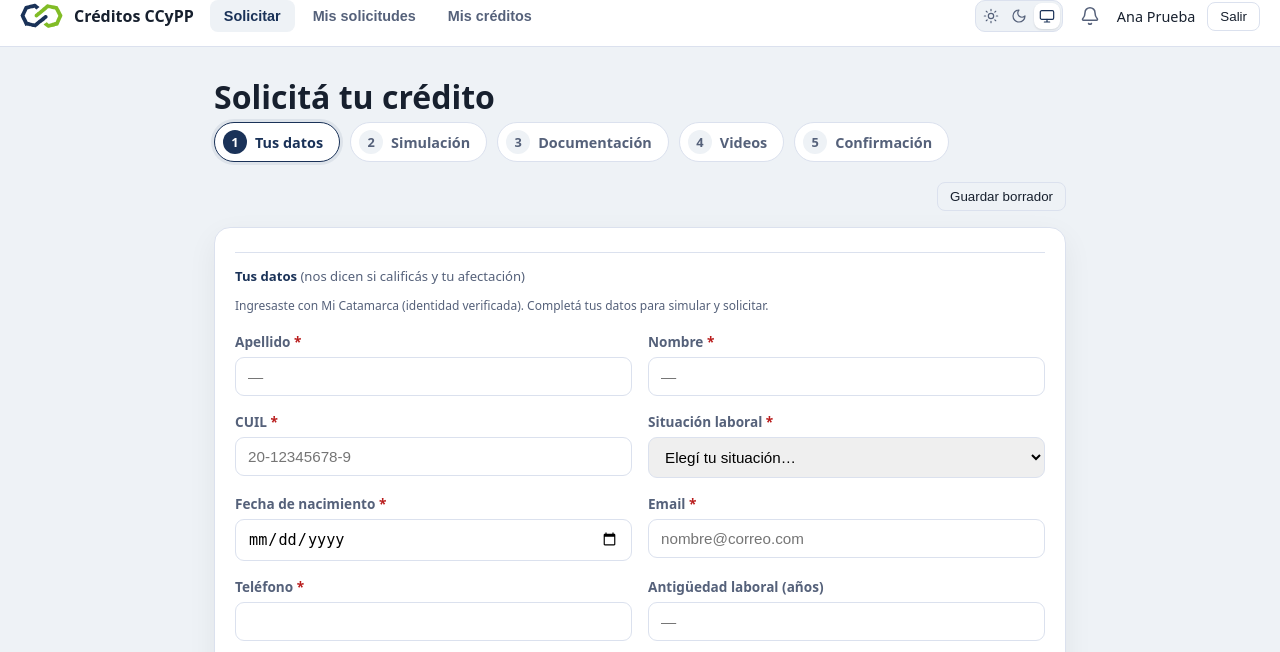
Scenario: paso 1 · tus datos › valida el largo del CUIL
Check: the heading "Solicitá tu crédito" is shown, box [214, 75, 495, 118]
Type "Prueba" into the field labelled "Apellido *" at (434, 376), box [235, 357, 632, 396]
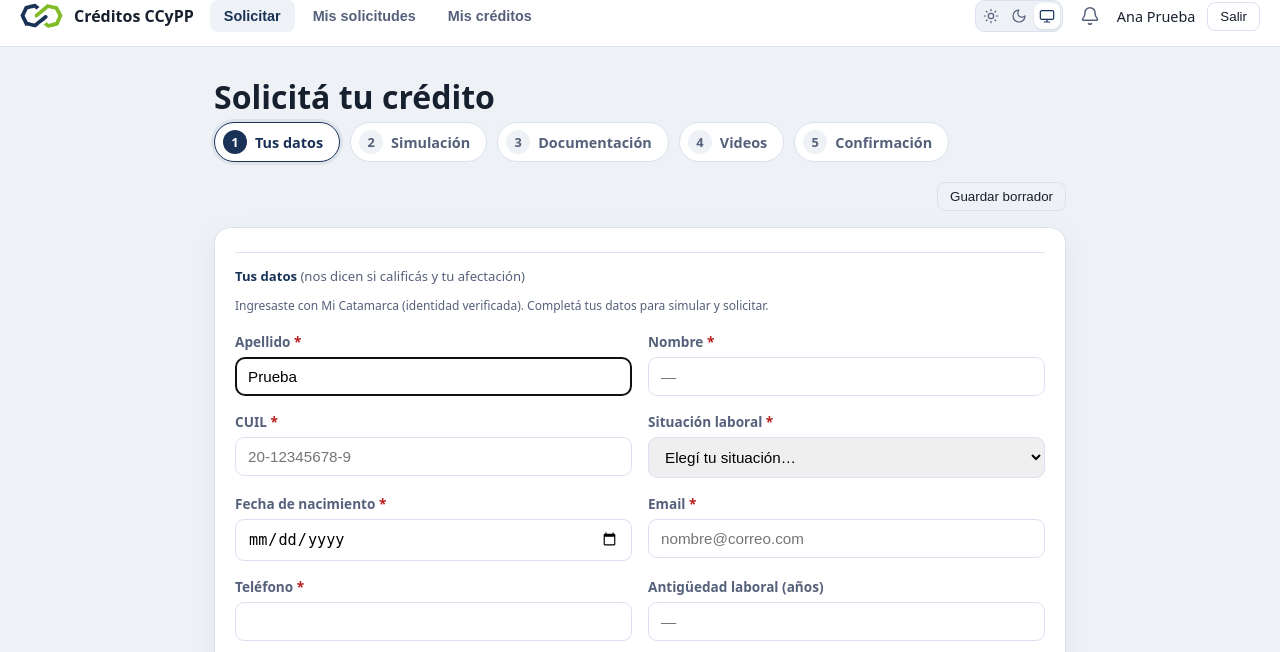
Type "Ana" into the field labelled "Nombre *" at (846, 376), box [648, 357, 1045, 396]
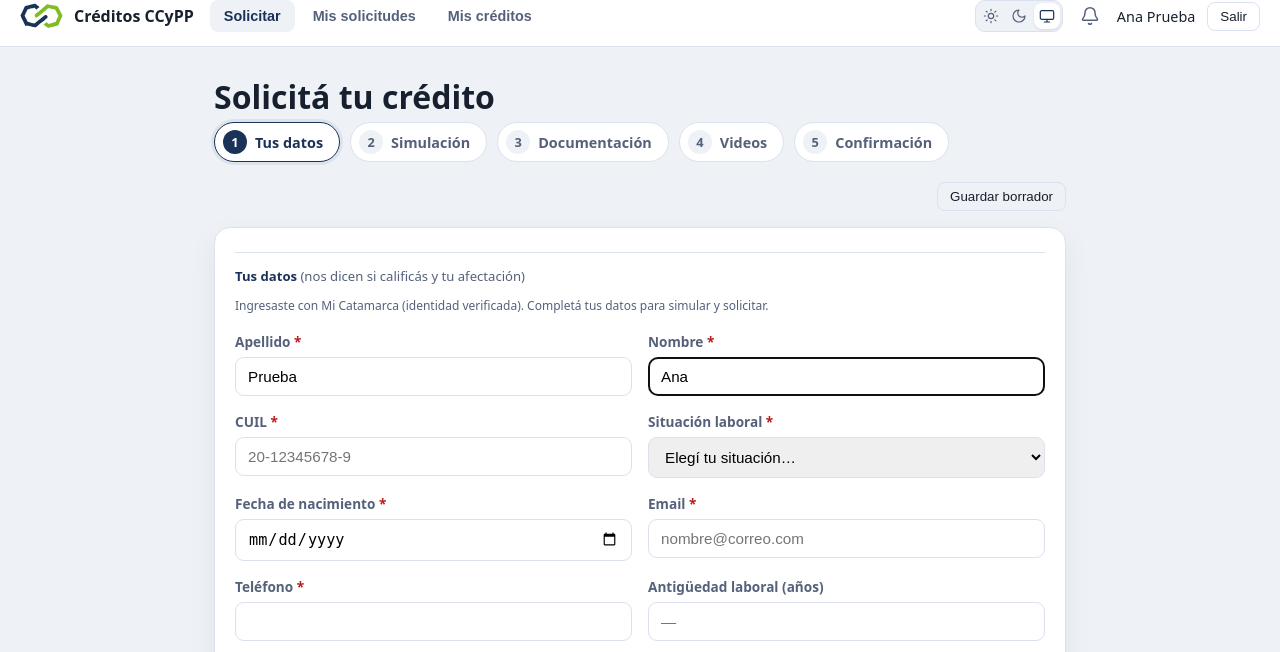
Type "123" into the field labelled "CUIL *" at (434, 456), box [235, 437, 632, 476]
(page scrolled)
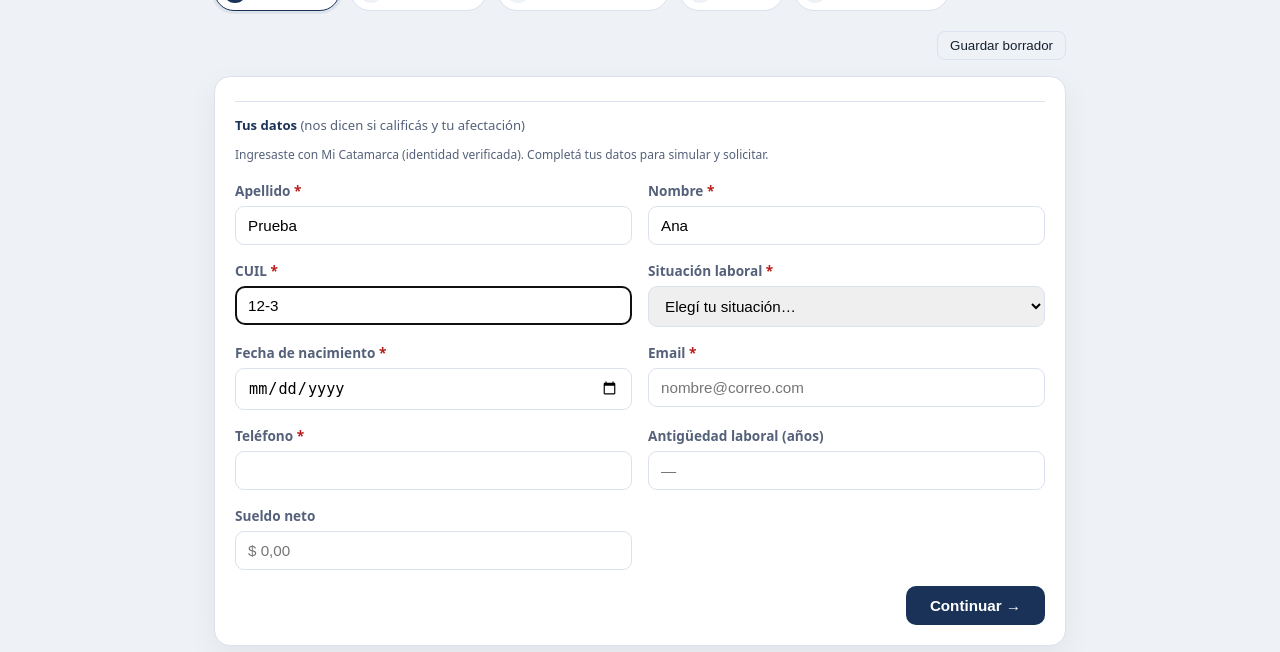
Click the button "Continuar →" at (975, 606), box [906, 586, 1045, 625]
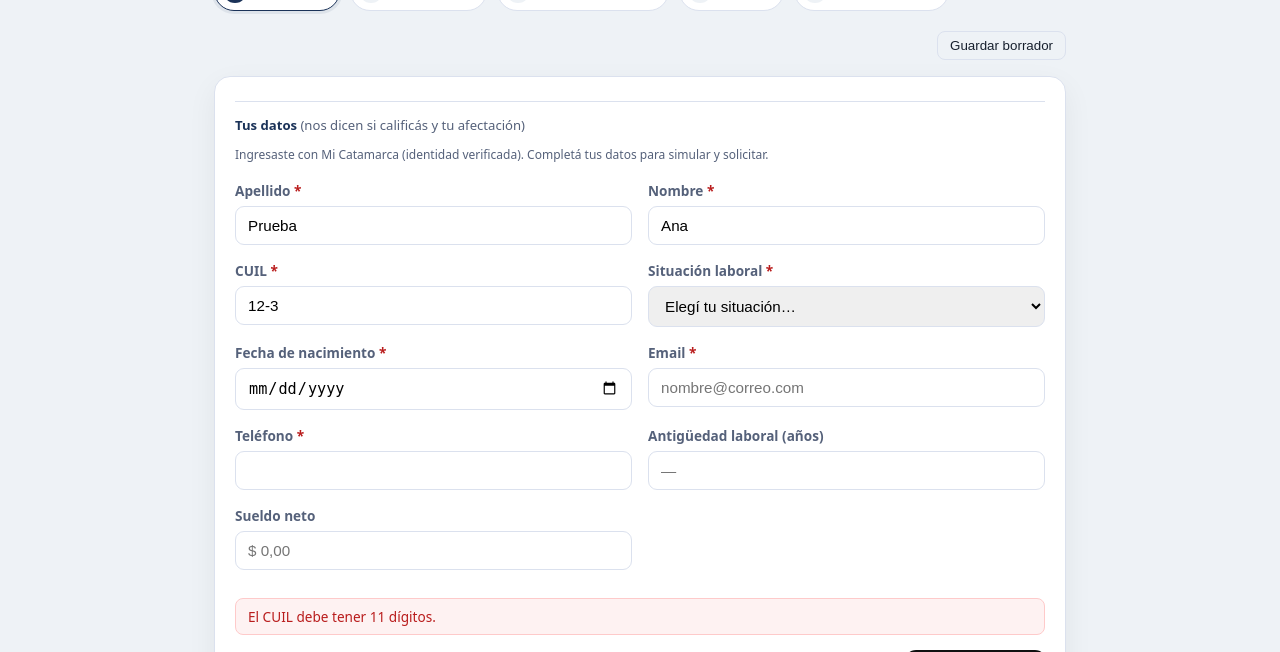
Check: the text "El CUIL debe tener 11 dígitos." is shown, box [235, 598, 1045, 635]
